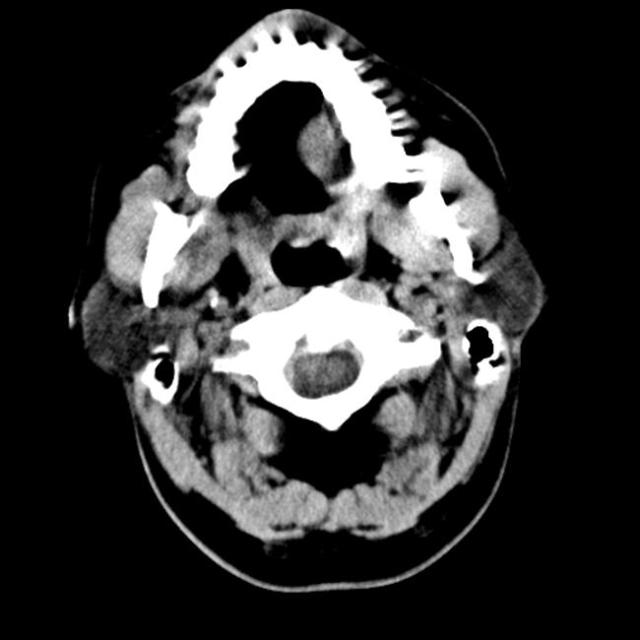lesion: (72, 8, 550, 571)
